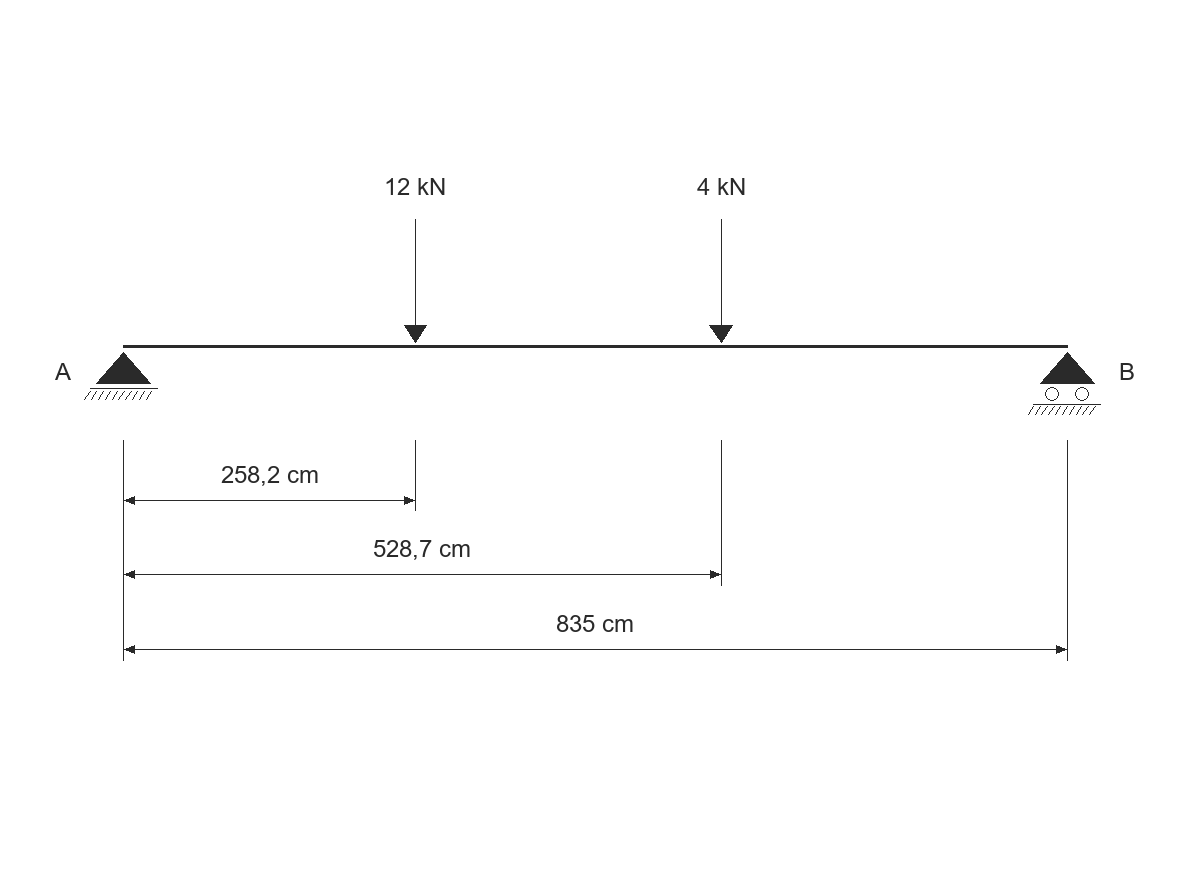pin_support: (84, 352, 158, 400)
point_load: (709, 219, 733, 343), (404, 219, 427, 343)
roller_support: (1028, 352, 1101, 415)
